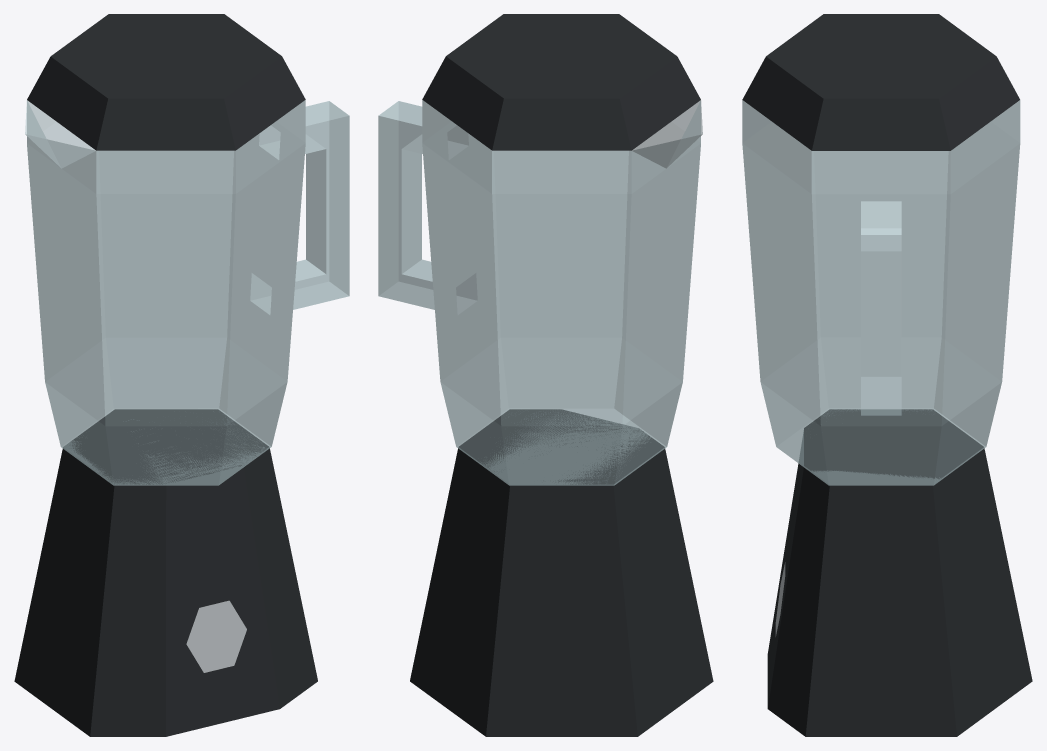
The model's file is blender.glb.
3 renders of one model, left to right at view 1: azimuth 30°, elevation 25°; view 2: azimuth 150°, elevation 25°; view 3: azimuth 270°, elevation 25°, orthographic.
Visible parts, largest first — view 1: blender; view 2: blender; view 3: blender.
Boxes of the visible parts, bbox=[...] form: blender: bbox=[14, 14, 349, 736]; blender: bbox=[378, 14, 713, 736]; blender: bbox=[742, 14, 1032, 736].
Bounding box in the file's own units: 0.2 × 0.38 × 0.16.
